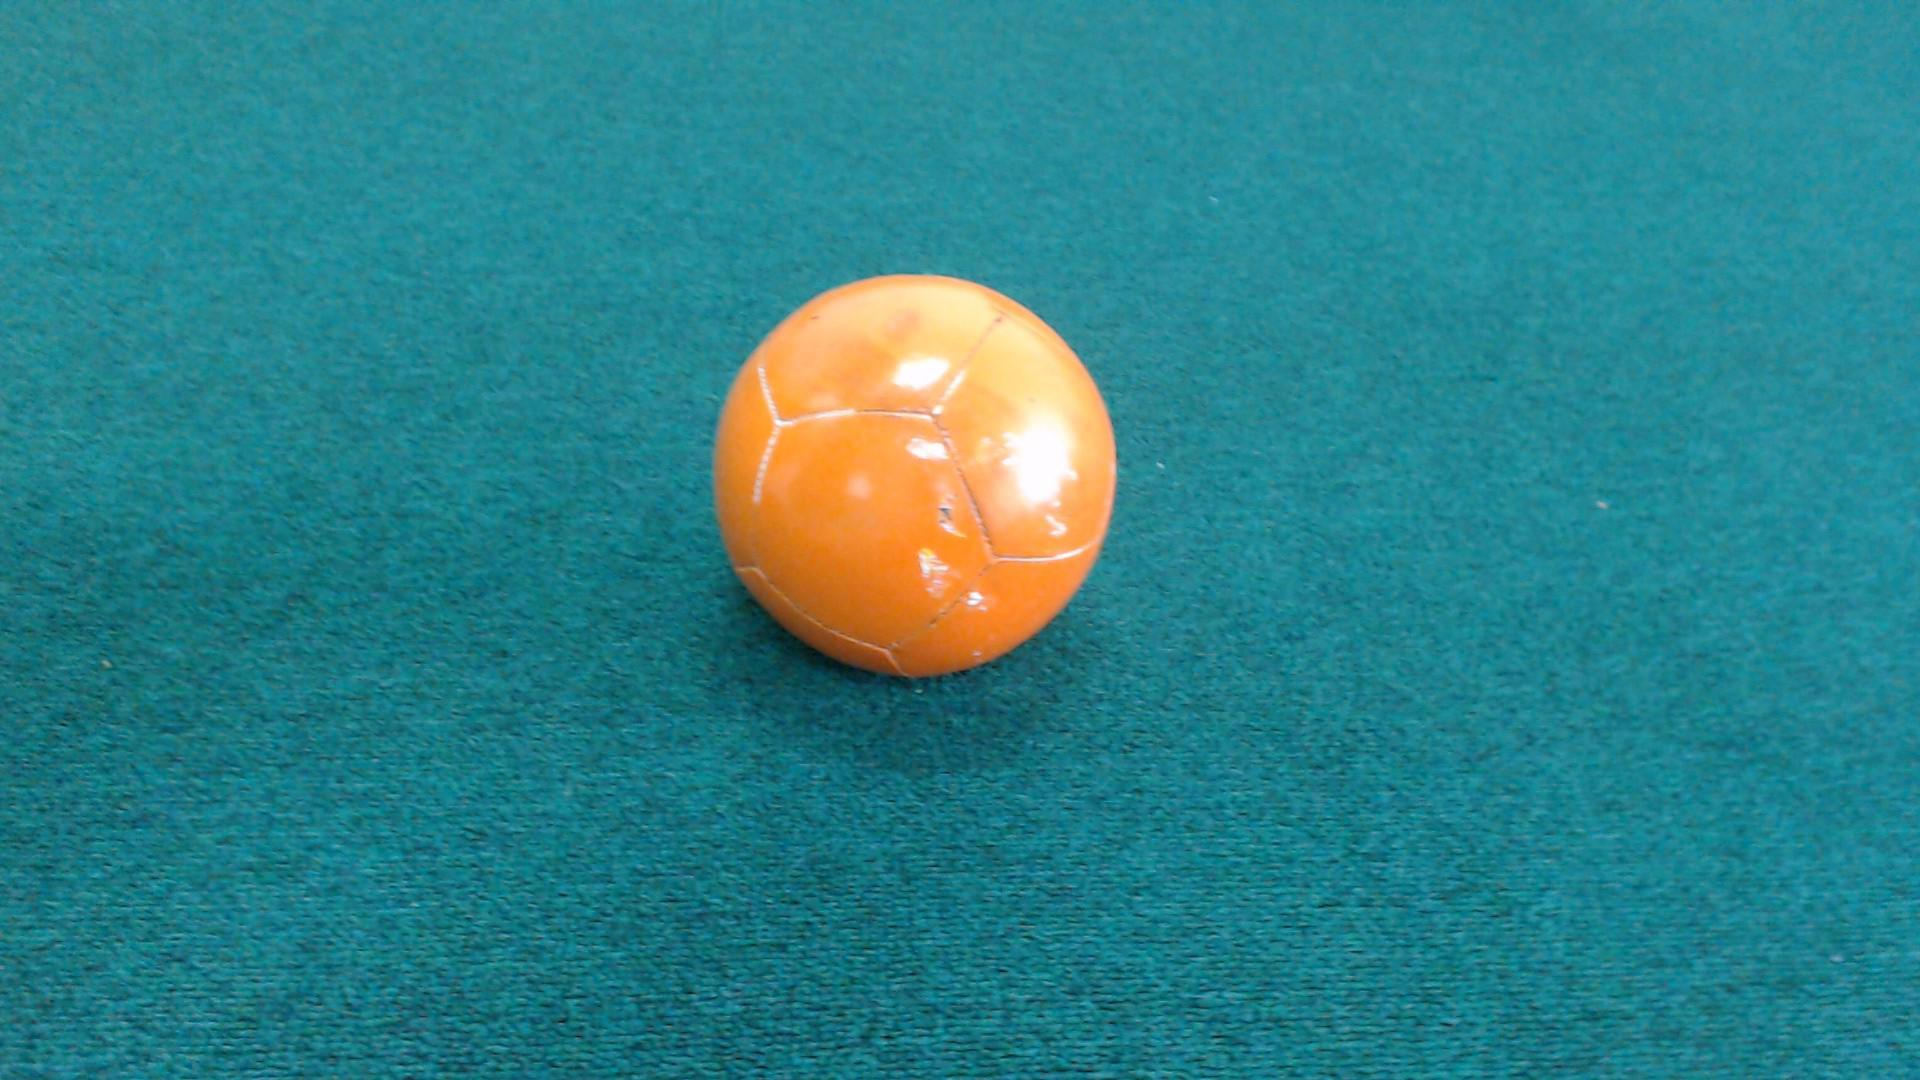bola: (669, 243, 1143, 717)
